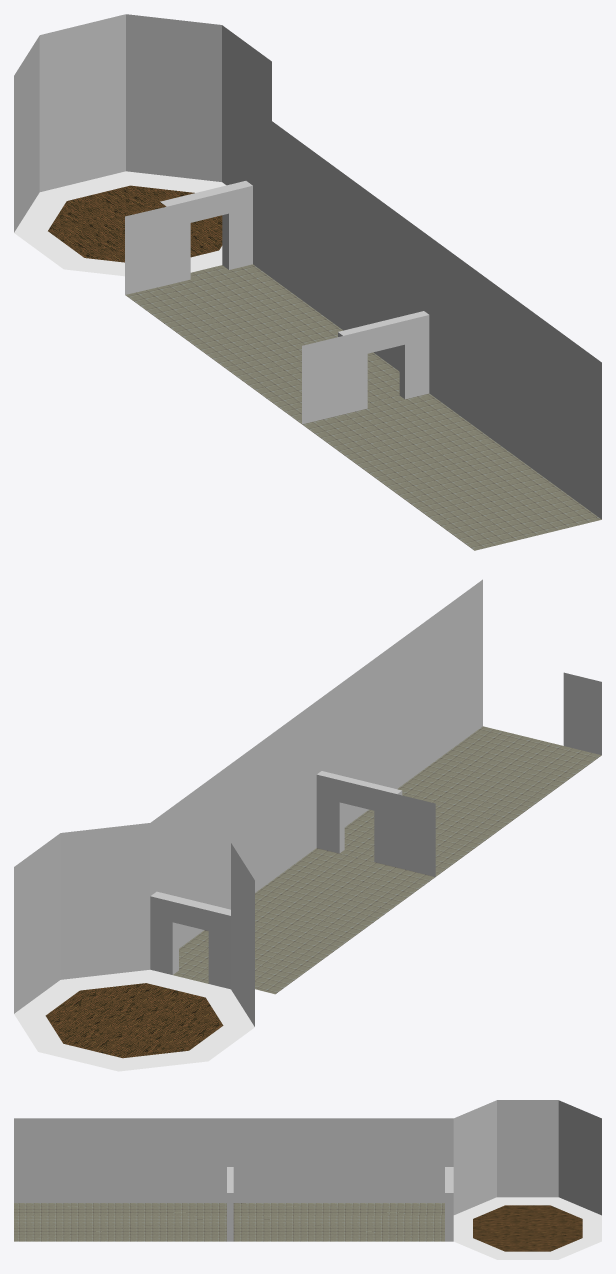
File: boss1interiorA.glb
3 views of the same model, one above another, from view 1: azimuth 30°, elevation 25°; view 2: azimuth 150°, elevation 25°; view 3: azimuth 270°, elevation 25° (orthographic). The views are drawn at different scales.
Visible parts, largest first — view 1: Cylinder; view 2: Cylinder; view 3: Cylinder.
Boxes of the visible parts, <box> form: Cylinder: <box>14,14,601,550</box>; Cylinder: <box>14,579,601,1071</box>; Cylinder: <box>14,1100,601,1259</box>.
Bounding box in the file's own units: 2.09 × 1.51 × 8.28.
Materials: 4 (2 with a texture image).
